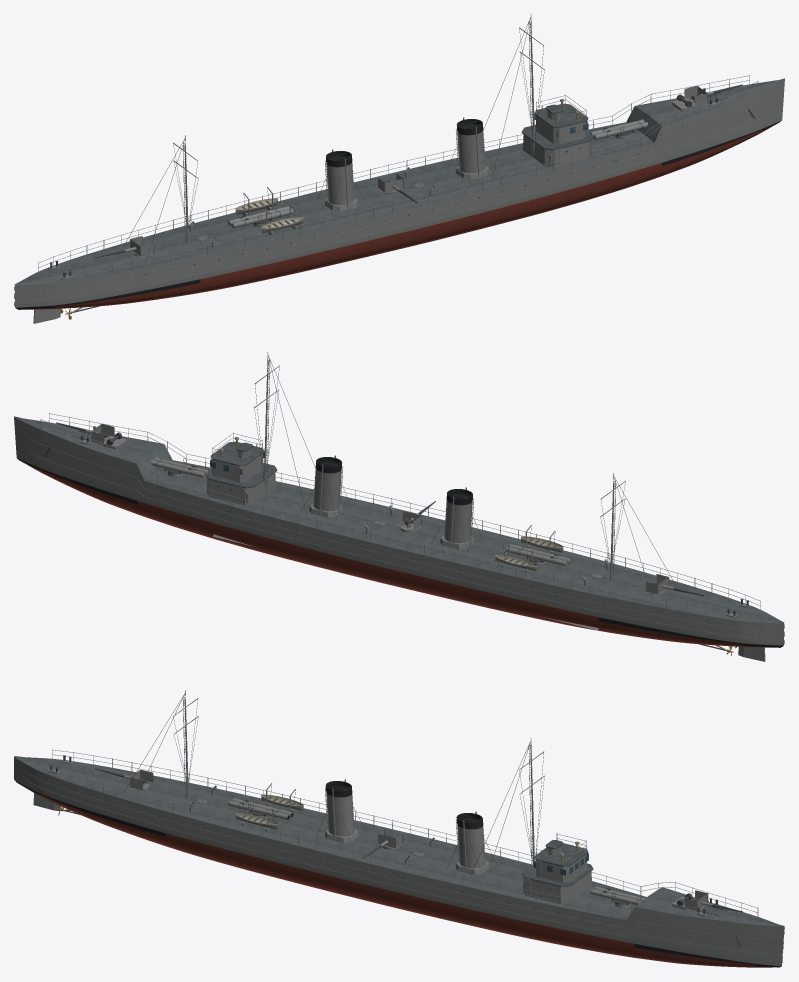
The model's file is momi.glb.
3 renders of one model, top to bottom at view 1: azimuth 30°, elevation 25°; view 2: azimuth 150°, elevation 25°; view 3: azimuth 330°, elevation 25°, orthographic.
Visible parts, largest first — view 1: Momi class (2nd class); view 2: Momi class (2nd class); view 3: Momi class (2nd class).
Boxes of the visible parts, x1,y1,x2,y2 form: Momi class (2nd class): (14,14,784,323); Momi class (2nd class): (14,352,784,661); Momi class (2nd class): (14,690,784,967).
Size of the model in its own units: 85.3 by 20.1 by 9.14.
9 materials, 8 textured.
